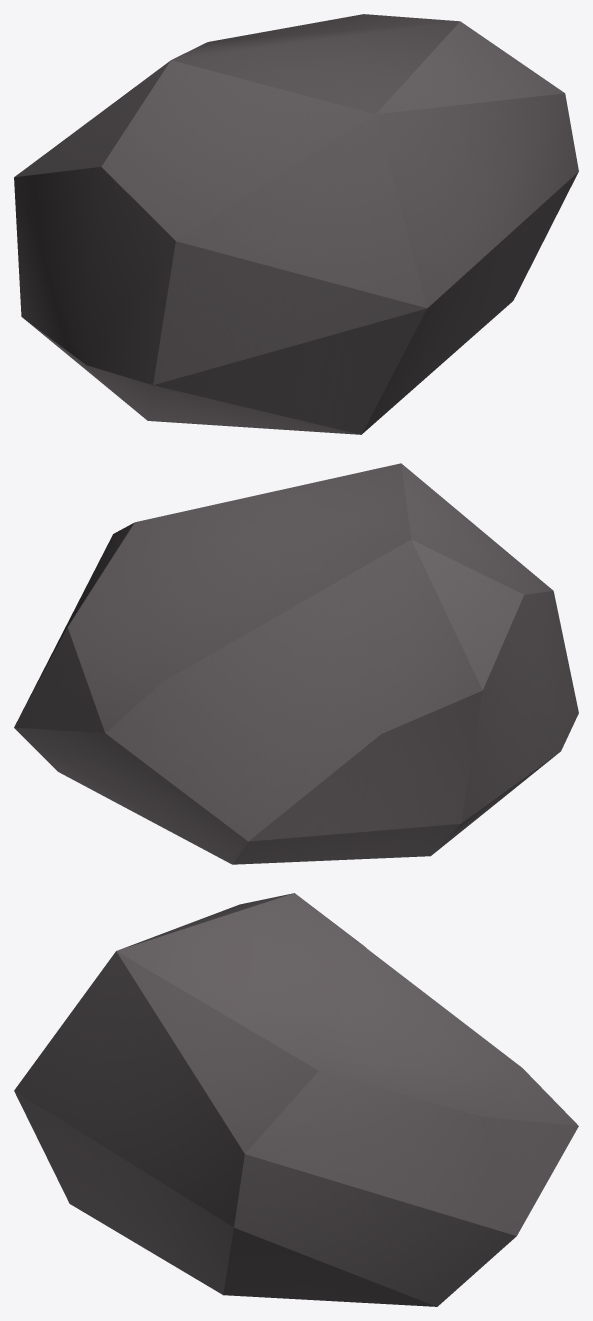
The model's file is Rocks08.fbx.
3 renders of one model, top to bottom at view 1: azimuth 30°, elevation 25°; view 2: azimuth 150°, elevation 25°; view 3: azimuth 270°, elevation 25°, orthographic. The views are drawn at different scales.
Visible parts, largest first — view 1: Rock.008; view 2: Rock.008; view 3: Rock.008.
Boxes of the visible parts, <box> form: Rock.008: <box>14,14,578,434</box>; Rock.008: <box>14,463,578,864</box>; Rock.008: <box>14,893,578,1306</box>.
Bounding box in the file's own units: 0.2131 × 0.144 × 0.2242.
